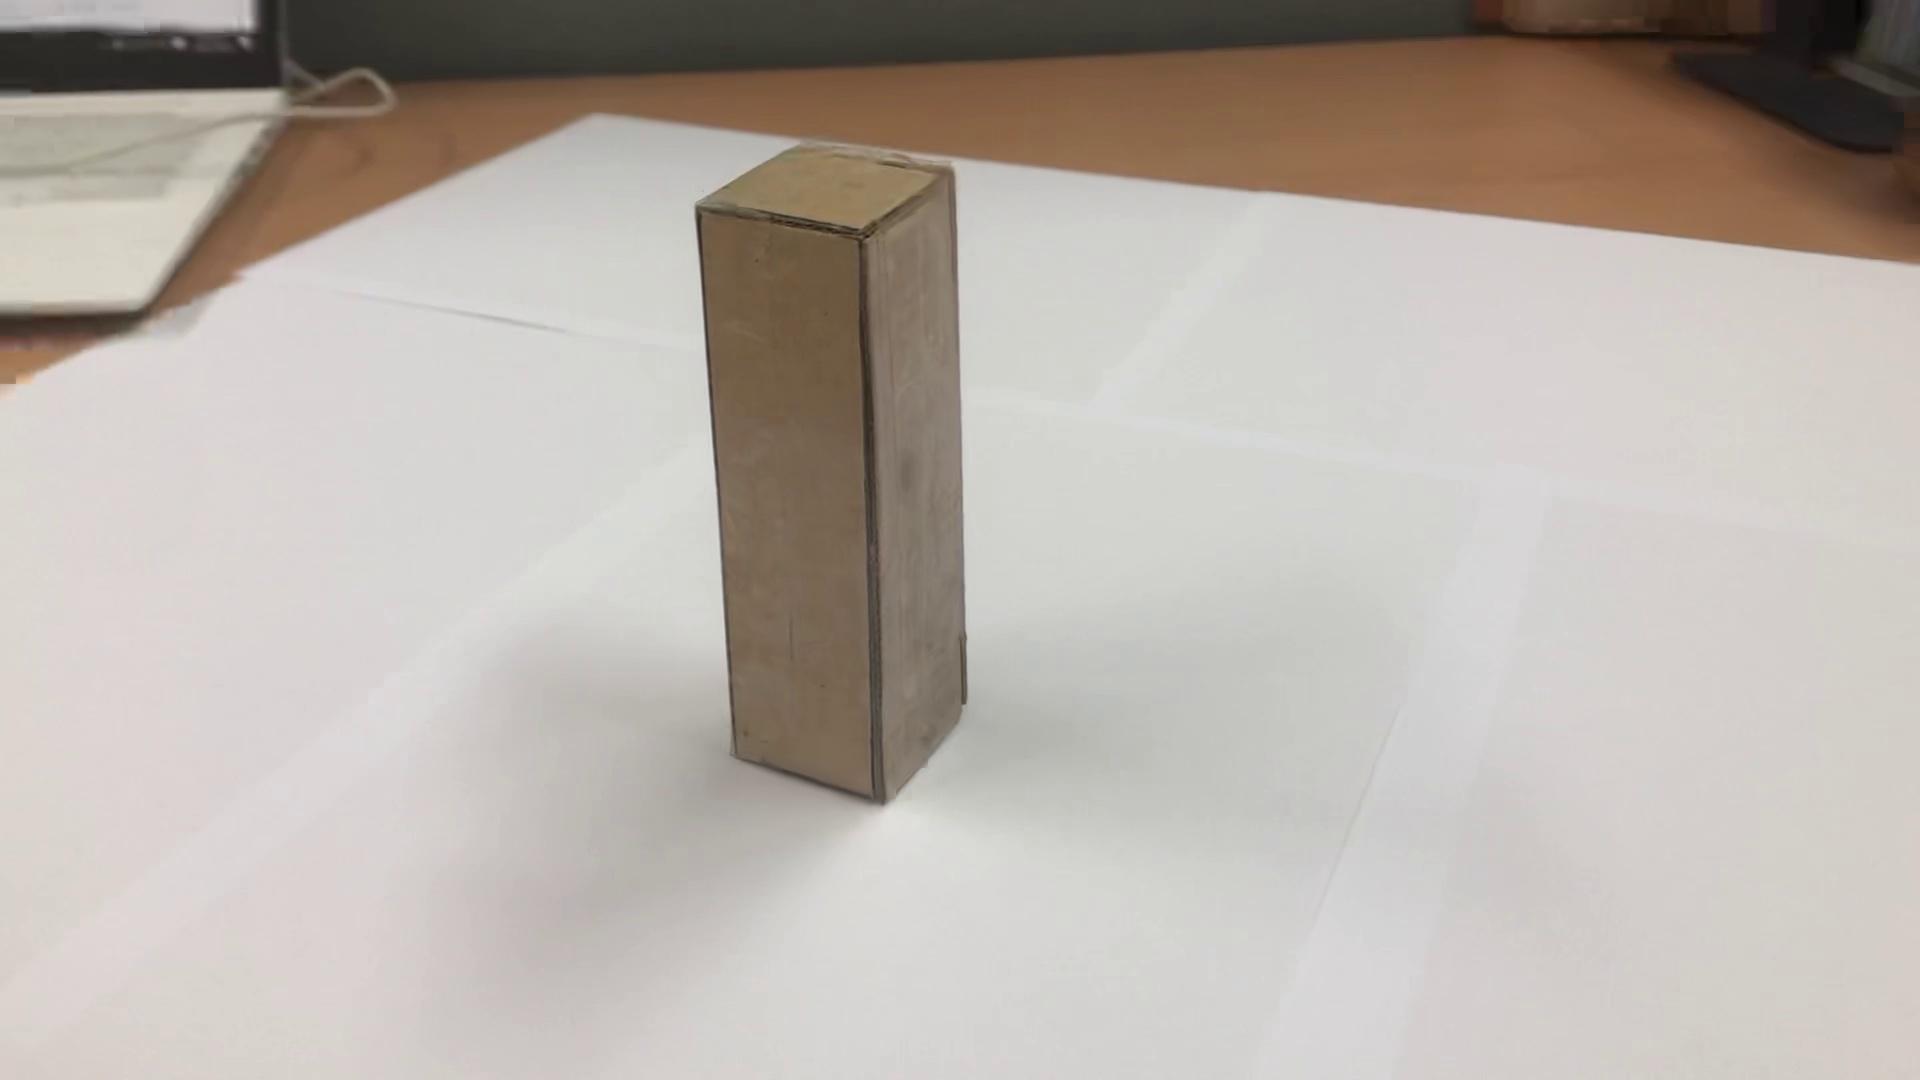box: (655, 127, 1022, 827)
